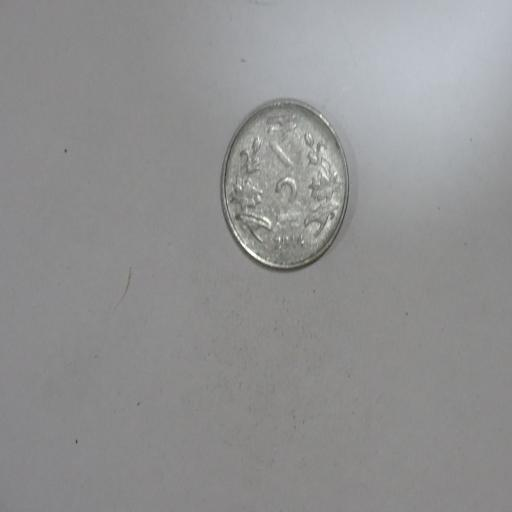rupee2: (220, 95, 351, 275)
